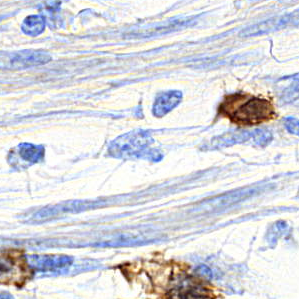Lymphocyte: (217, 88, 278, 126)
